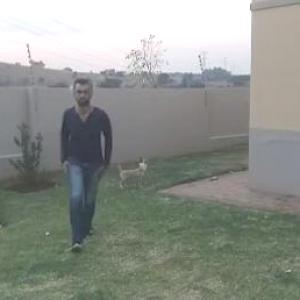follow: (60, 70, 116, 242)
